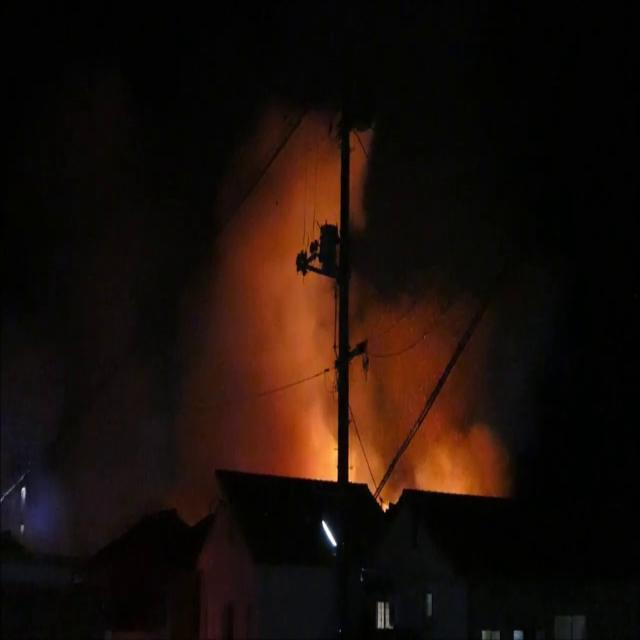Smoke: (135, 67, 538, 487)
